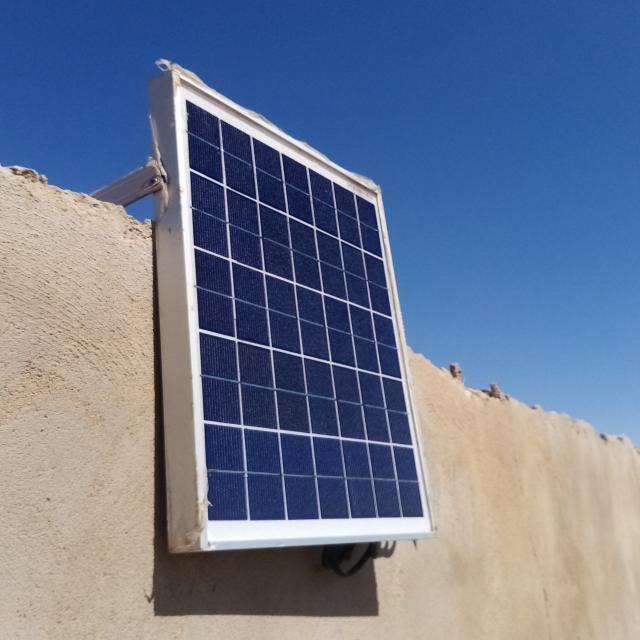no faulty: (178, 72, 435, 546)
